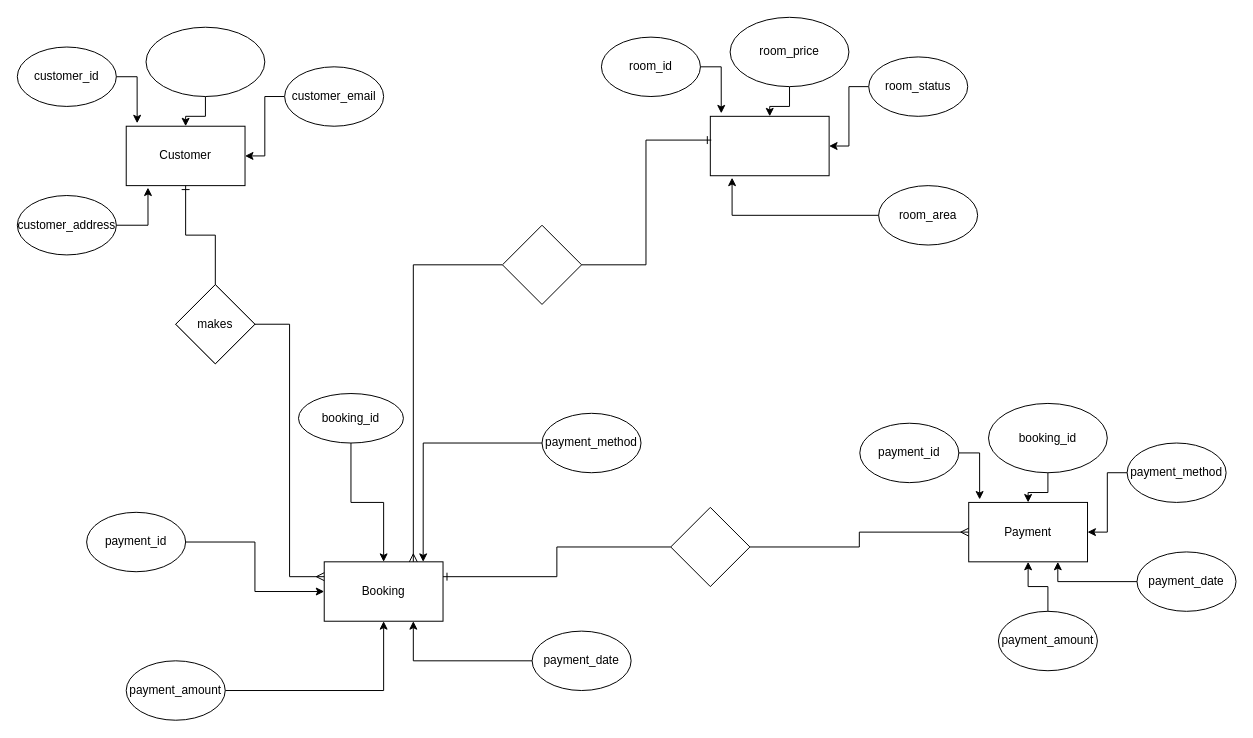
The diagram is 1253 pixels wide and 738 high, and some of its shapes have lost their labels. Here are the shapes that lost their labels. From the top down, the centre of each, then its label:
At (x=205, y=61): "customer_full_name".
At (x=769, y=145): "Room".
At (x=541, y=264): "is_booked_in".
At (x=710, y=546): "has".
